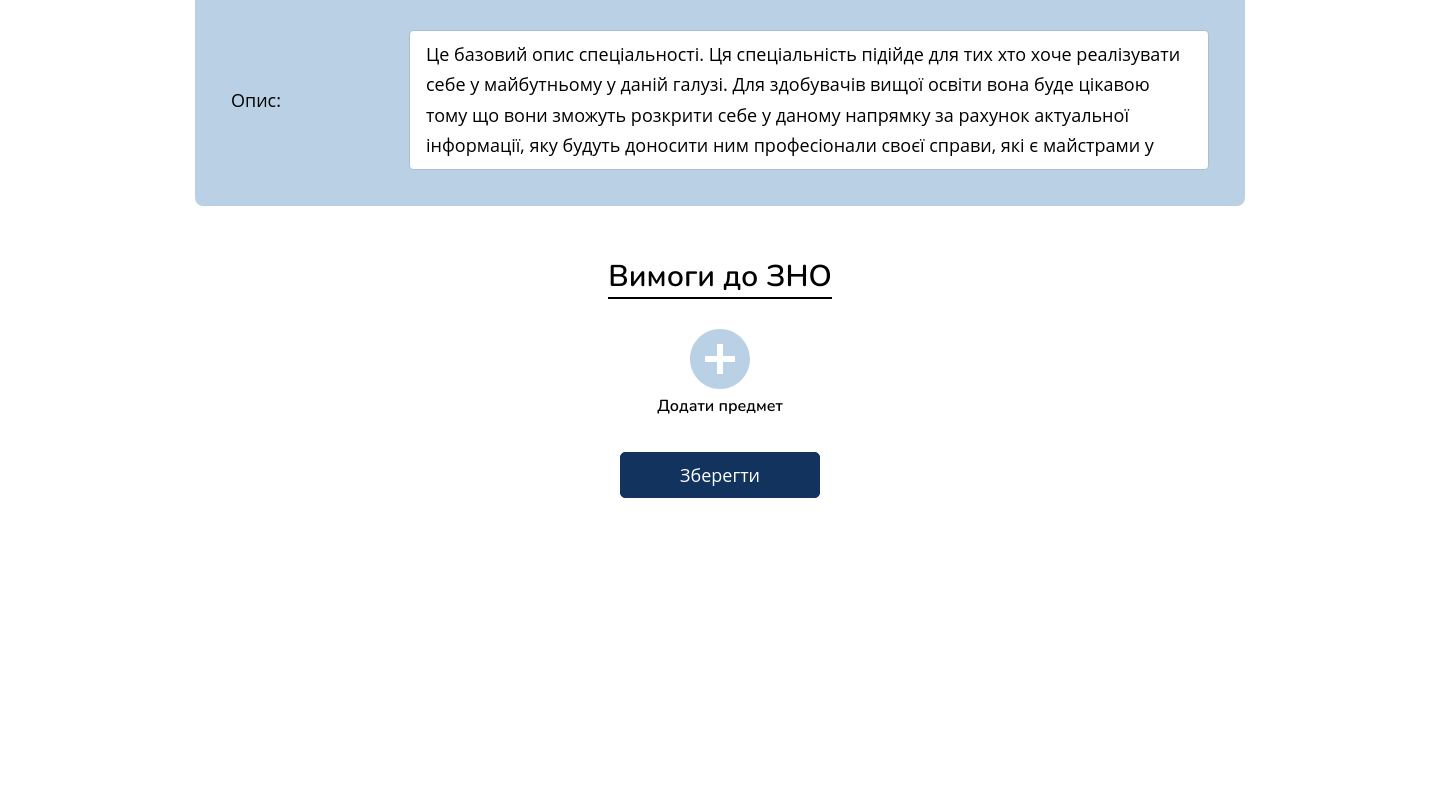
Test case: EditSpecialty › Exam Requirements › selected  subject is added to the list of requirements
(page scrolled)
Click the text "Додати предмет" at (720, 406), box [657,395,783,417]
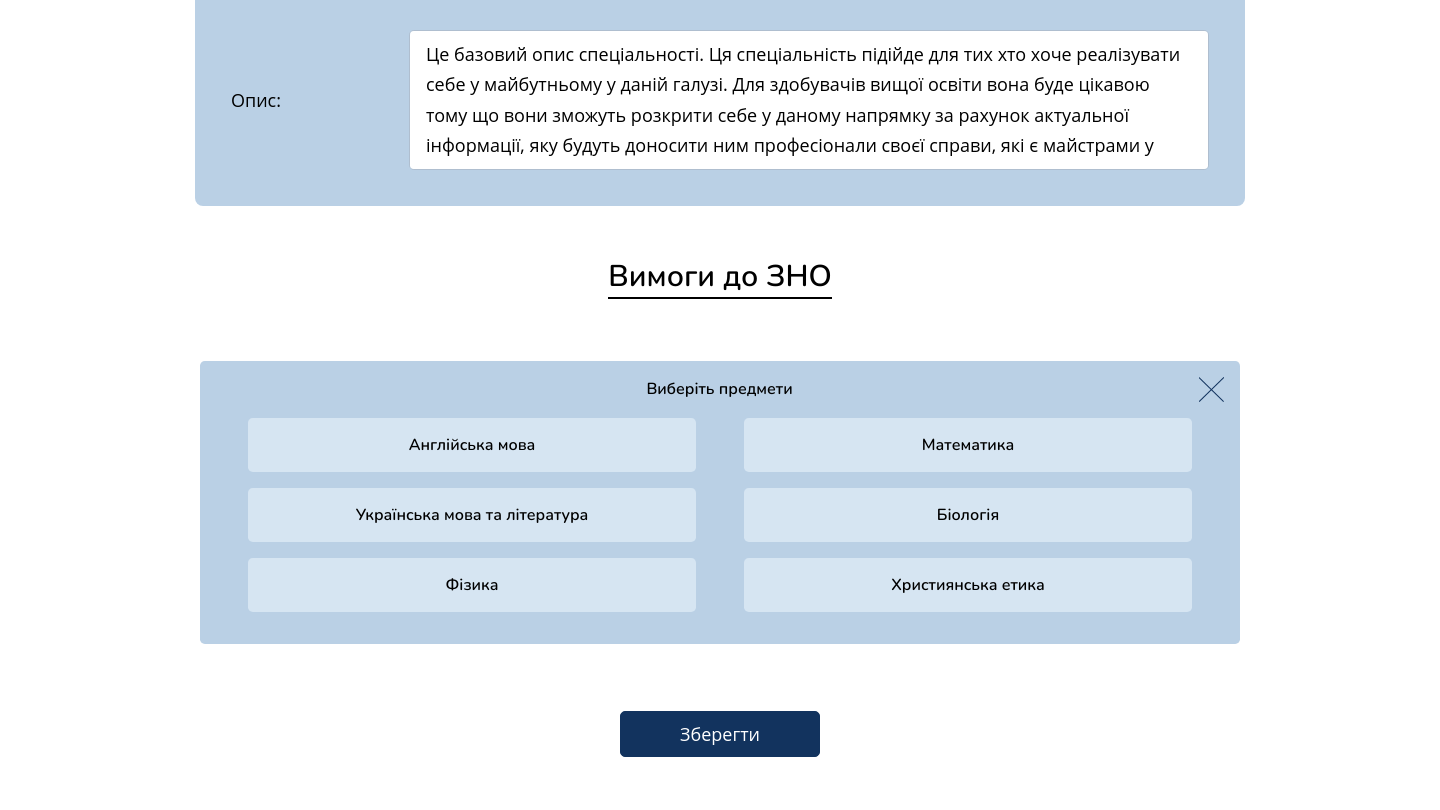
Click the text with class "subject" at (472, 445), box [248,418,696,472]
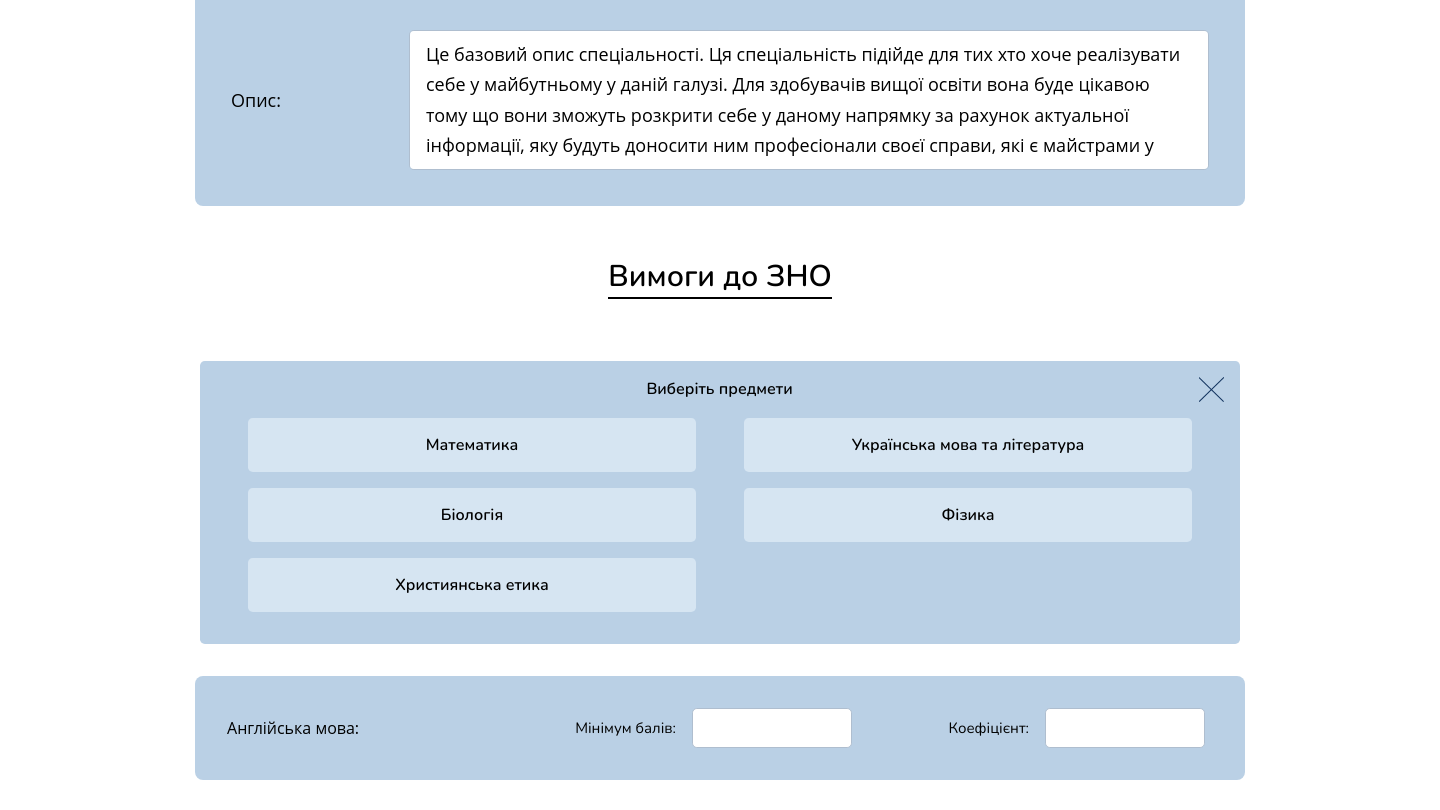
Click the text with class "subject" at (472, 515), box [248,488,696,542]
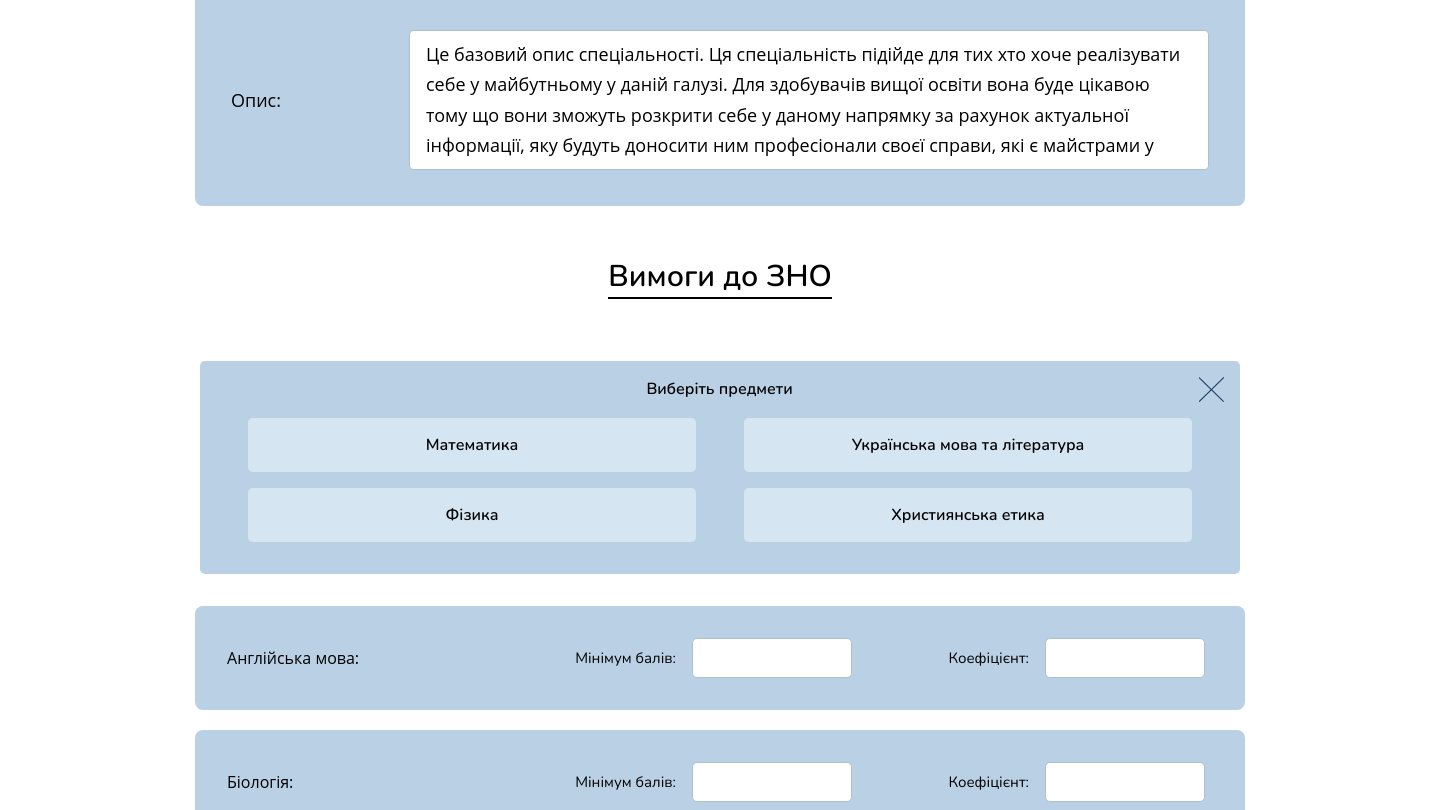
Result: the text "Мінімум балів:" is shown 2 times at [575,648,676,668]; [575,772,676,792]
